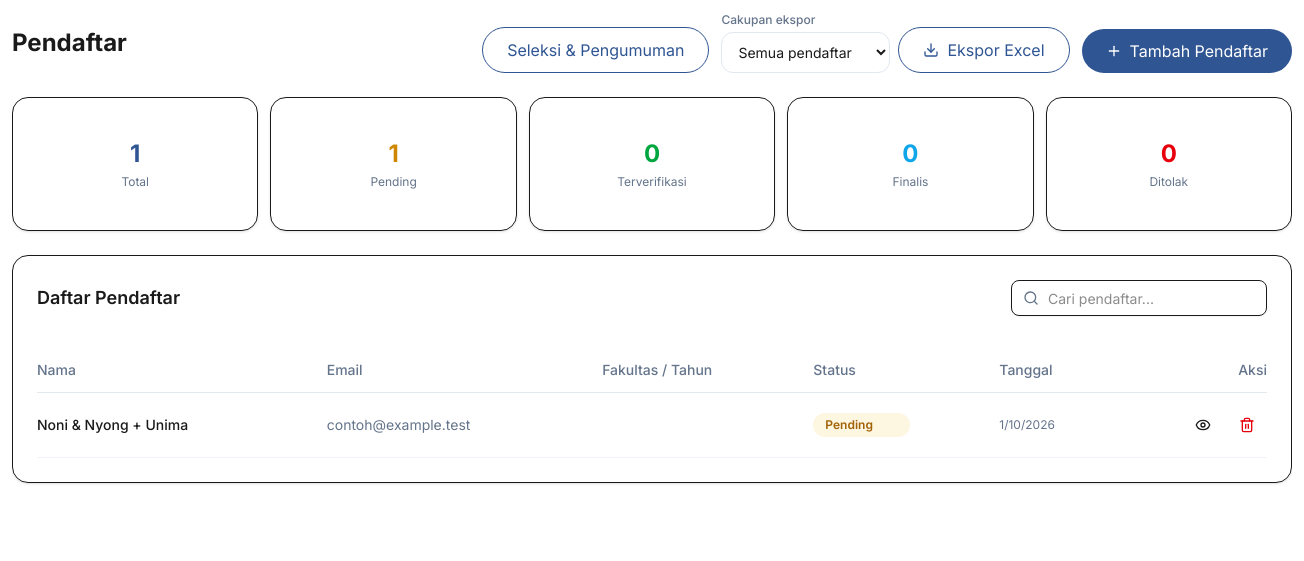
Test: Applicants Excel export › handles malformed/non-message error JSON: not json
Click the button "Ekspor Excel" at [984, 50], box [898,27,1070,73]
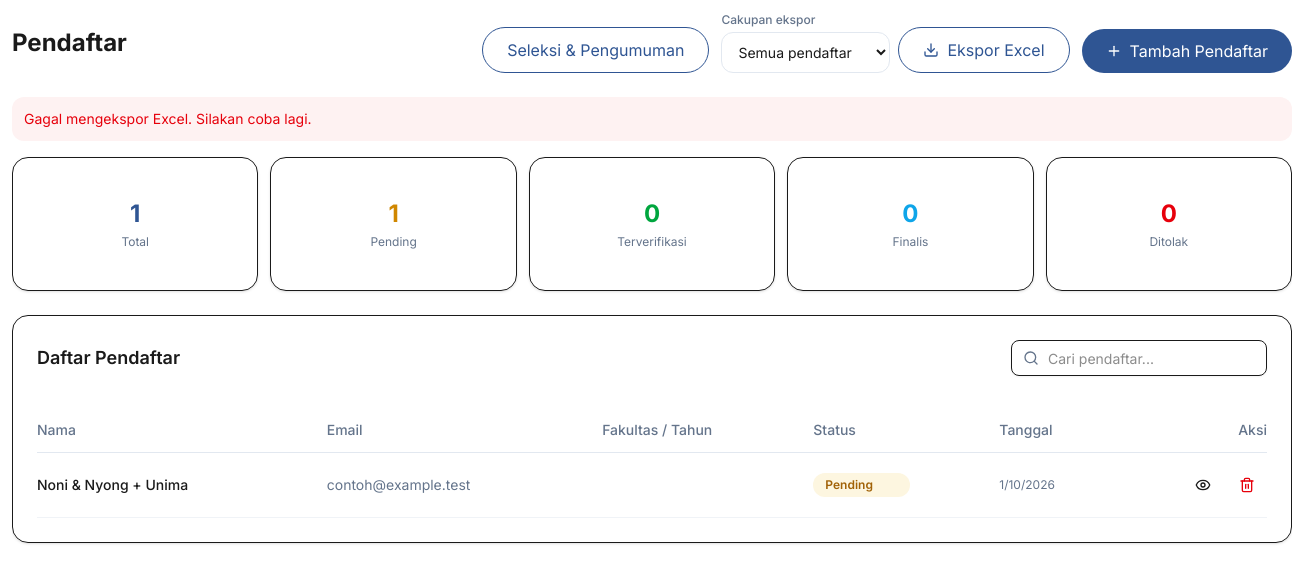
Check: the dropdown labelled "Cakupan ekspor" is enabled, box [722,32,890,73]
Check: the message reads "Gagal mengekspor Excel. Silakan coba lagi.", box [24,110,312,127]
